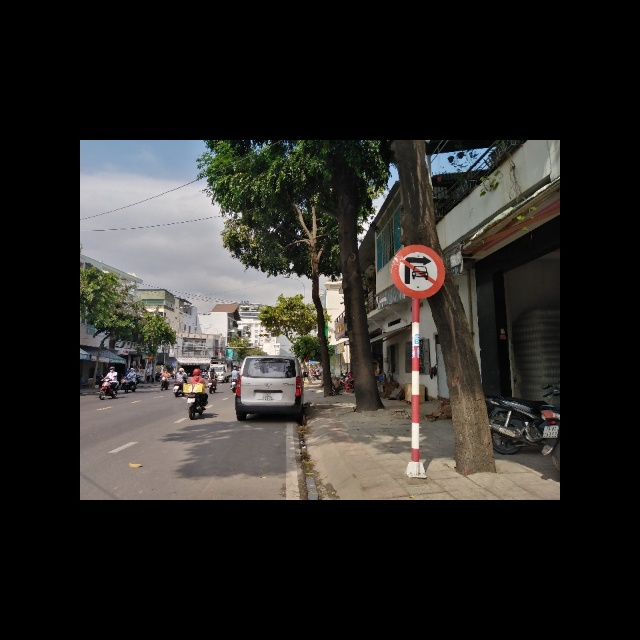Cấm xe ô tô rẽ trái: (391, 244, 446, 299)
